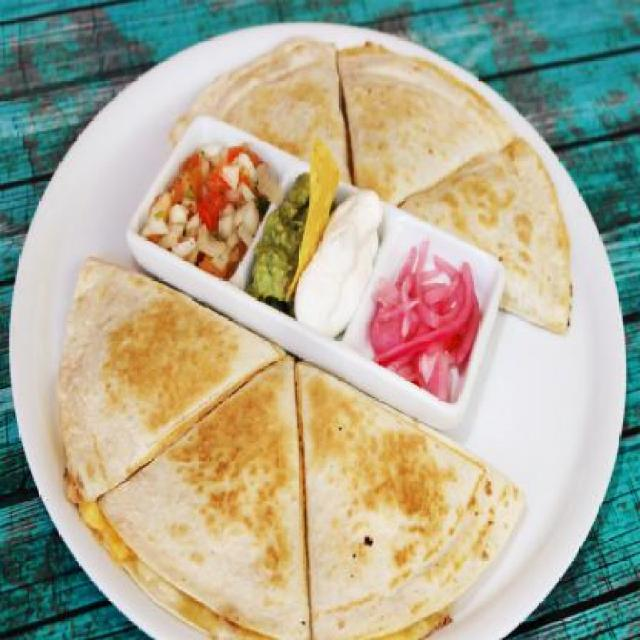chicken quesadilla: (55, 254, 542, 637), (170, 35, 572, 331)
guacamole: (245, 168, 313, 309)
nachos: (283, 137, 342, 311)
